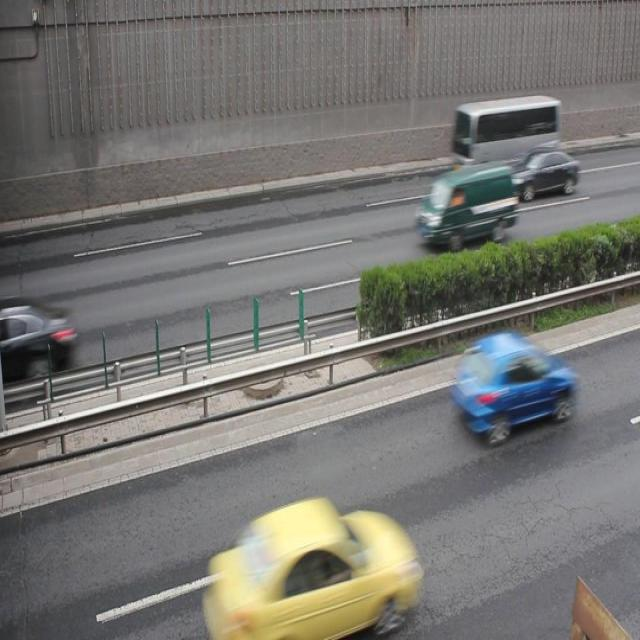car: (202, 501, 422, 640), (454, 331, 575, 444), (1, 296, 75, 386), (514, 152, 578, 196)
truck: (418, 166, 515, 250)
van: (452, 95, 563, 174)
